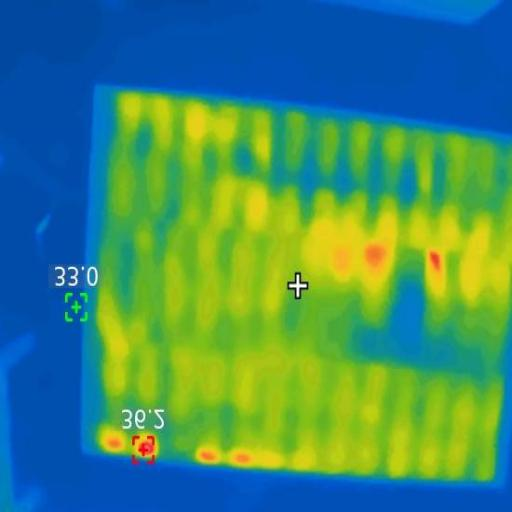hotspot: (130, 434, 158, 458), (432, 242, 447, 275), (98, 435, 126, 450), (197, 446, 218, 464), (234, 451, 252, 463)
